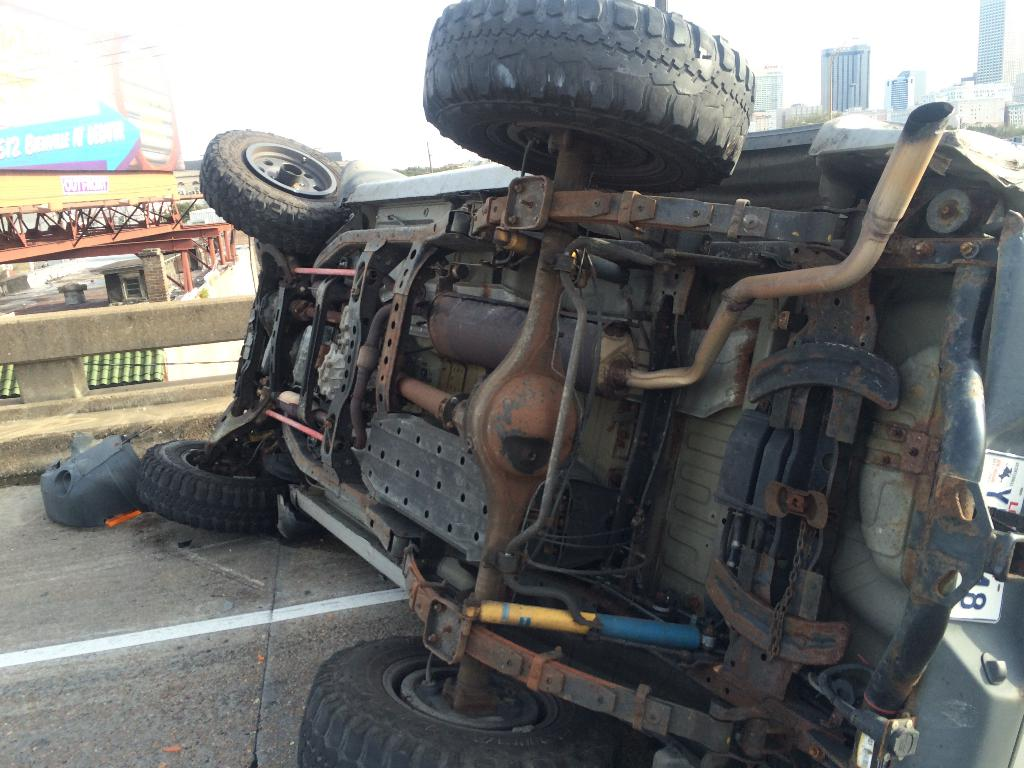Car: (133, 0, 1023, 767)
